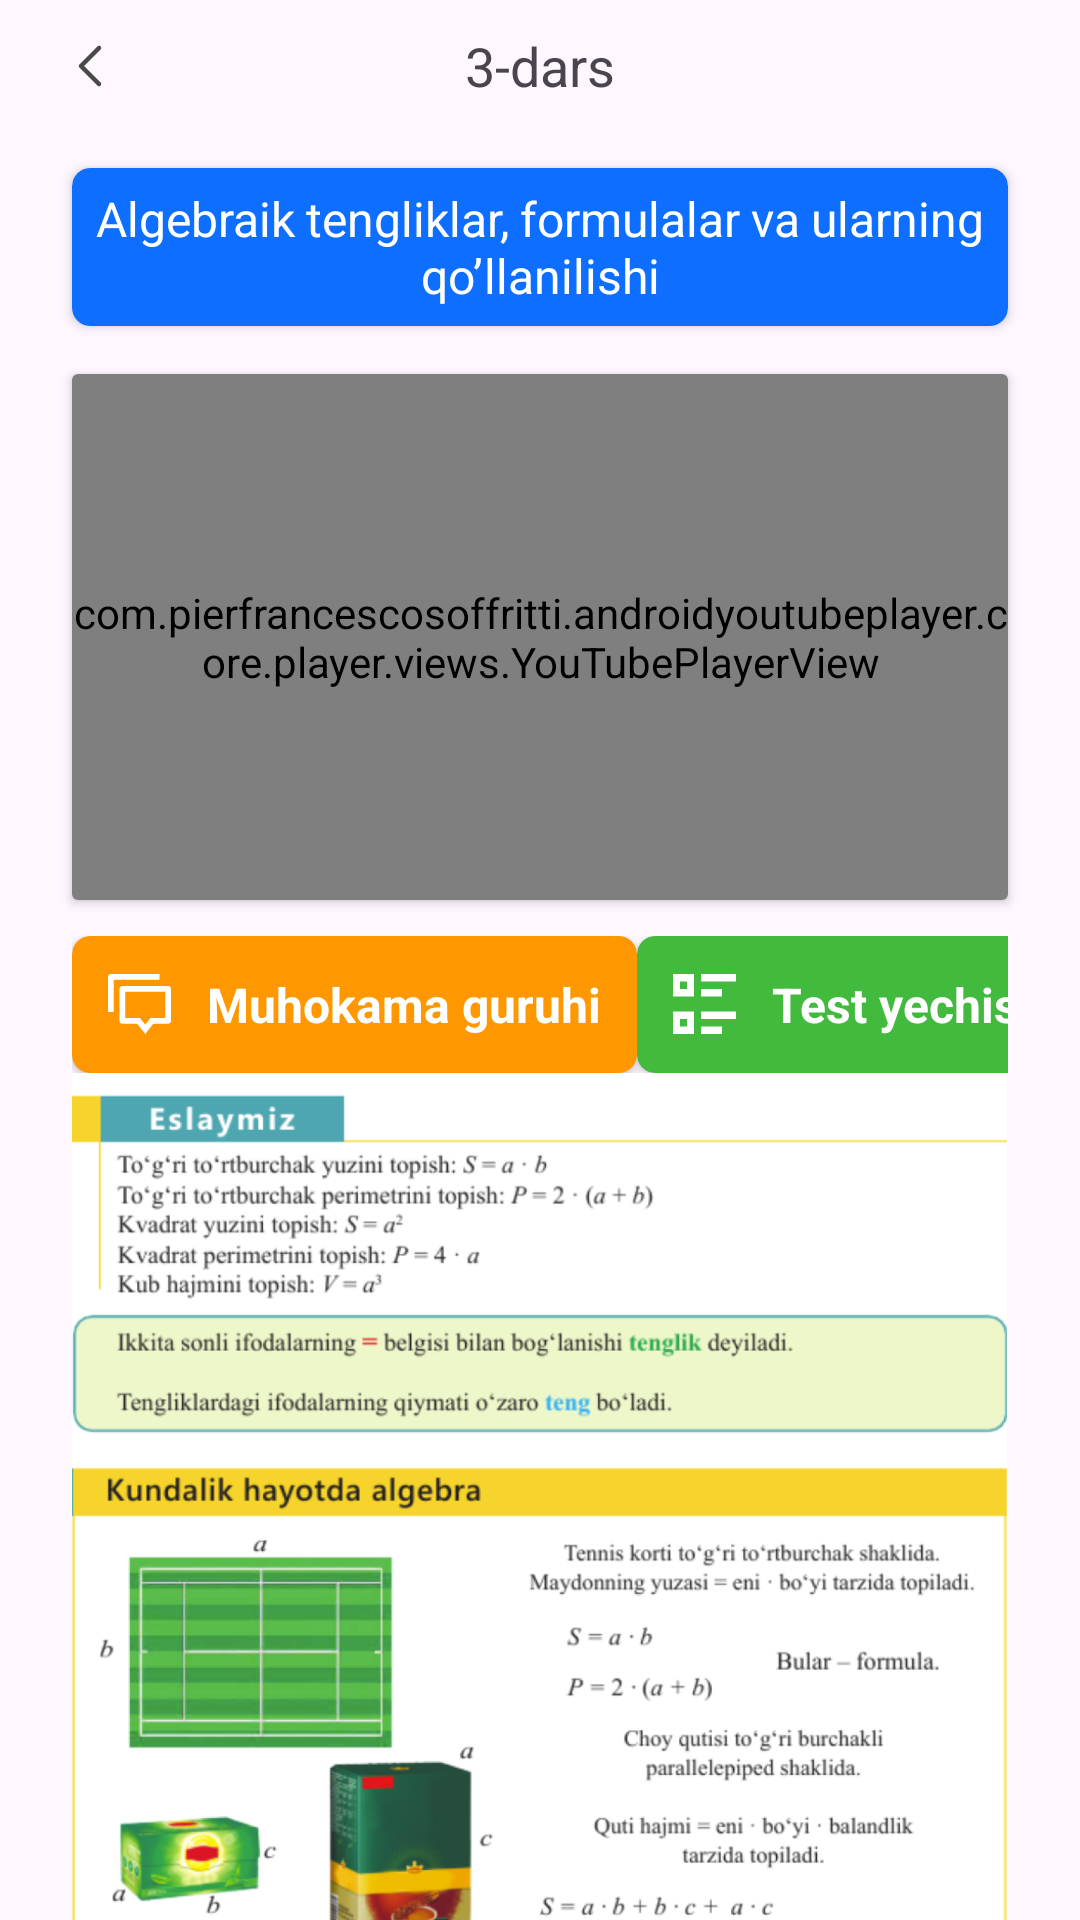

Named icons in this screenshot (1080w x 1920h) and their centers, [x,y]:
community: [139,1004]
left: [90,66]
